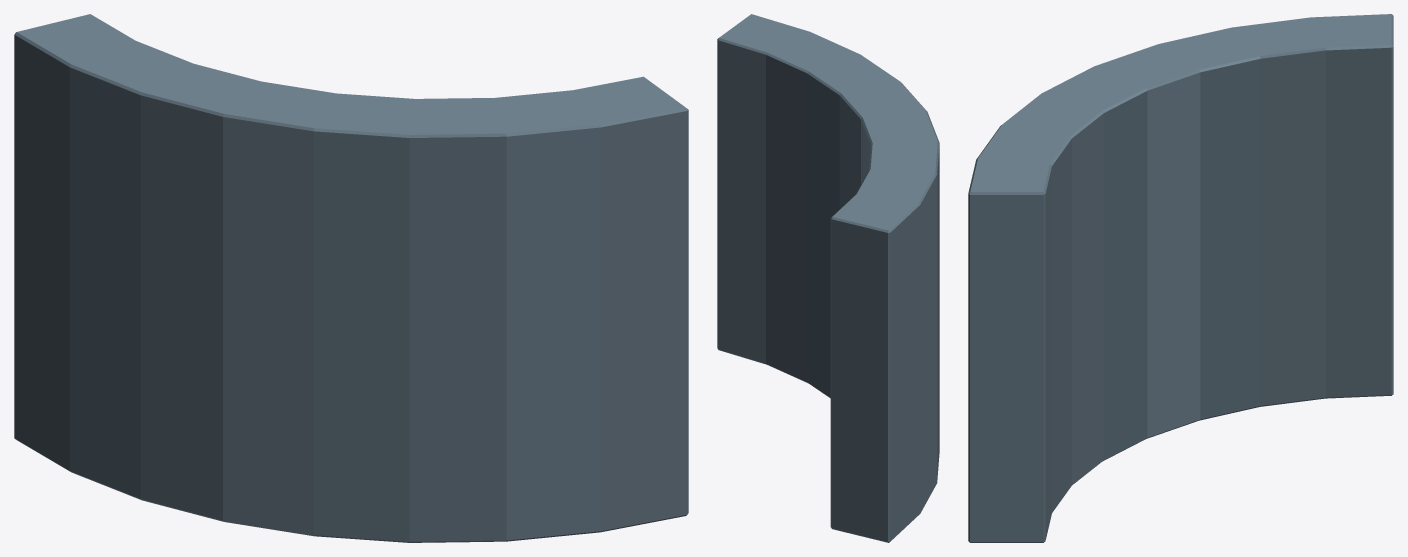
Rendered from P38_Curved_Wall.fbx.
3 views of the same model, side by side, from view 1: azimuth 30°, elevation 25°; view 2: azimuth 150°, elevation 25°; view 3: azimuth 270°, elevation 25° (orthographic). The views are drawn at different scales.
Visible parts, largest first — view 1: P38_Curved_Wall; view 2: P38_Curved_Wall; view 3: P38_Curved_Wall.
Boxes of the visible parts, x1,y1,x2,y2 form: P38_Curved_Wall: (14,14,688,542); P38_Curved_Wall: (717,14,939,542); P38_Curved_Wall: (968,14,1393,542).
Size of the model in its own units: 1.65 by 1.5 by 1.65.
Materials: 1 (1 with a texture image).
